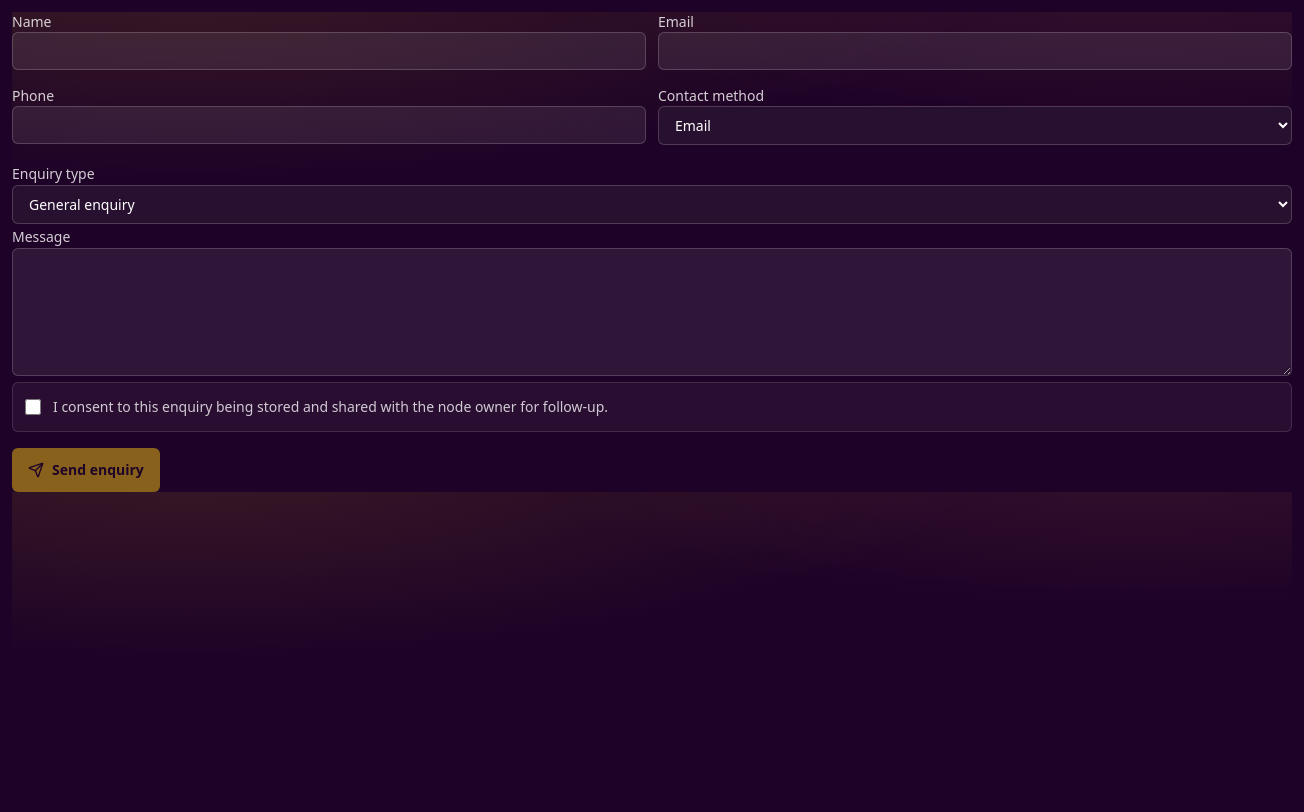
Scenario: Presence Nodes frontend › validates and submits the enquiry form successfully
The width and height of the screenshot is (1304, 812).
Expected: the button "Send enquiry" is disabled, left=12, top=448, right=160, bottom=492
In the field labelled "Name": (329, 51) left=12, top=32, right=646, bottom=70, type "Ari Visitor"
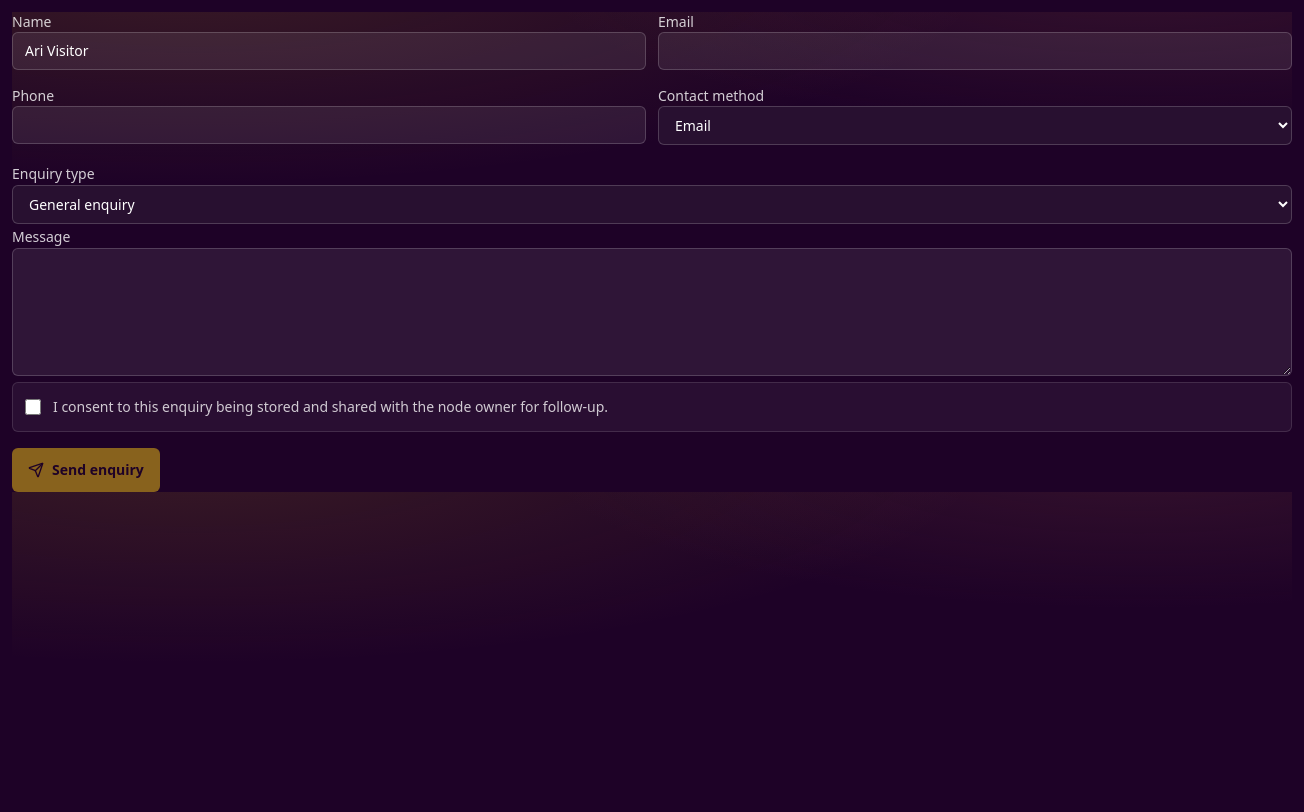
In the field labelled "Email": (975, 51) left=658, top=32, right=1292, bottom=70, type "ari@example.org"
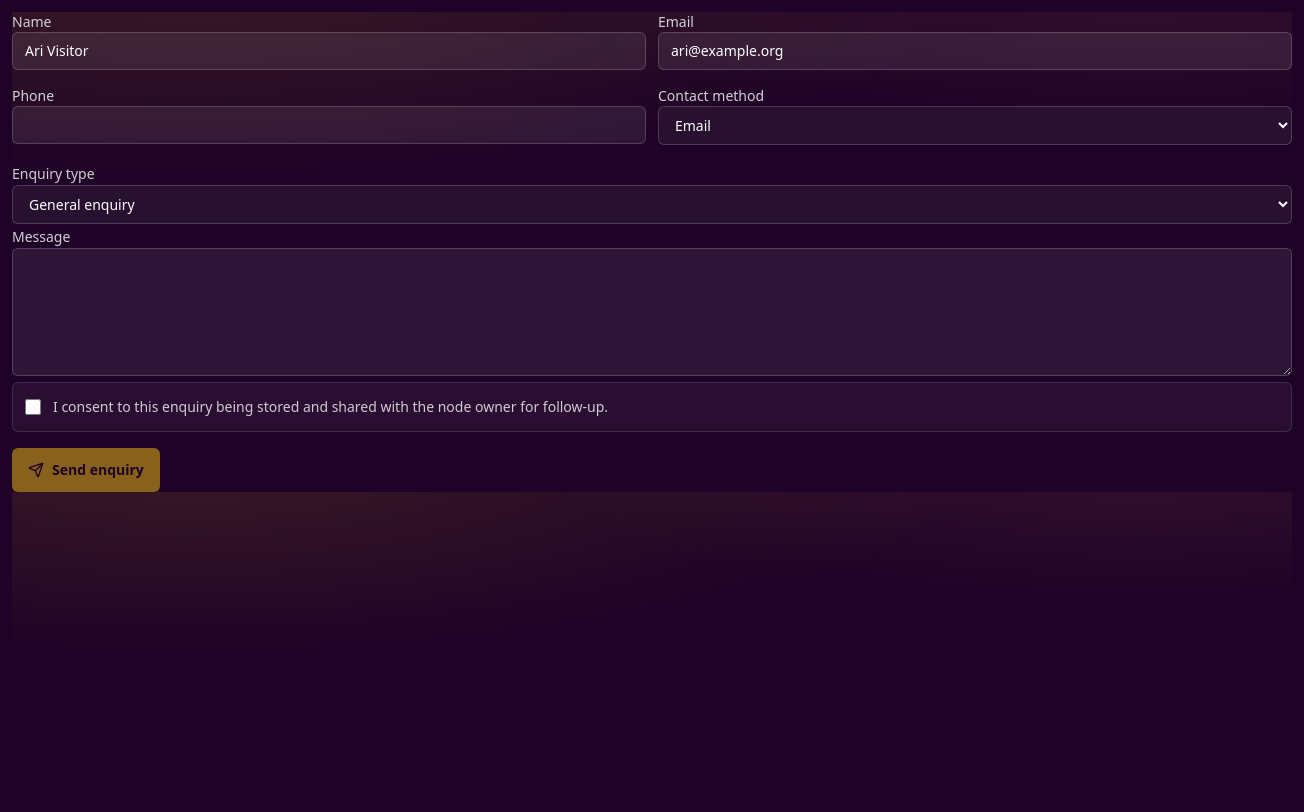
In the text box labelled "Message": (652, 312) left=12, top=248, right=1292, bottom=376, type "I would like to book a session."
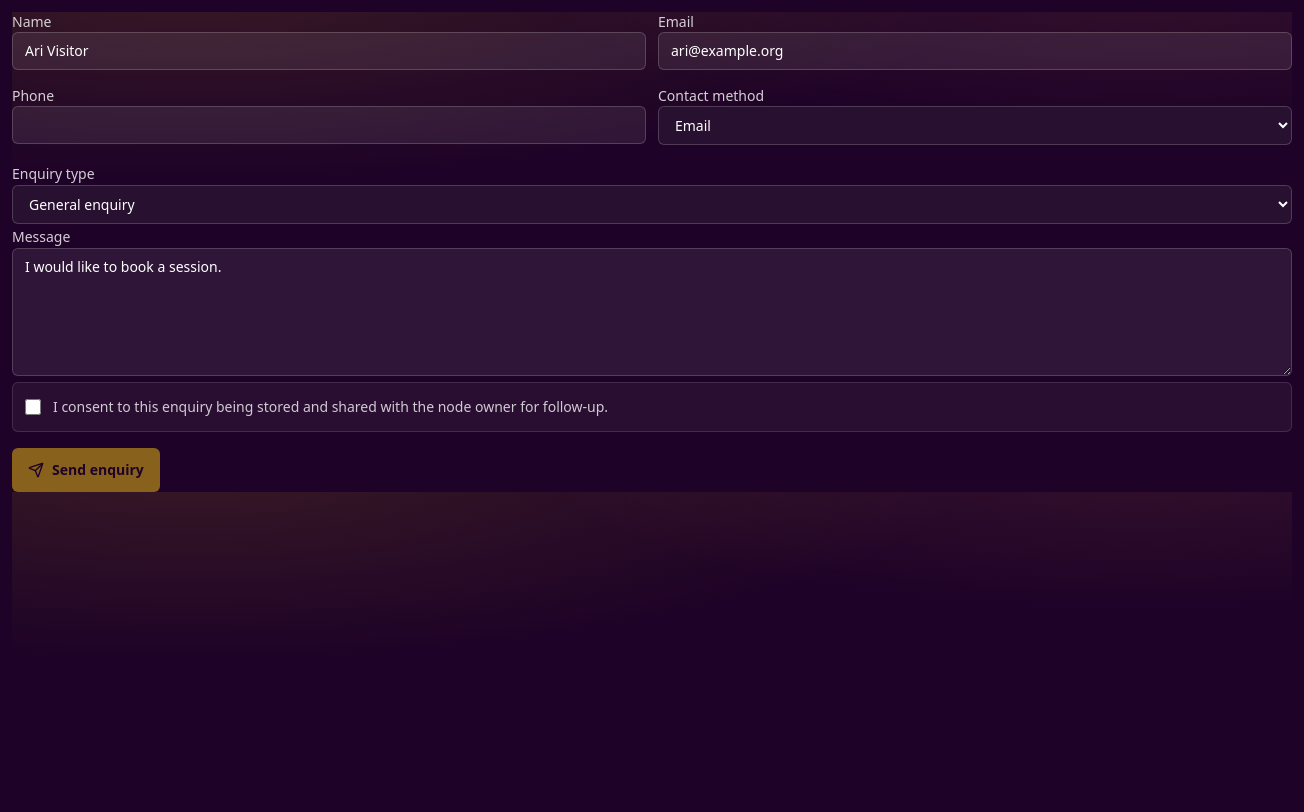
Click the checkbox labelled "I consent": (33, 407) left=25, top=399, right=41, bottom=415
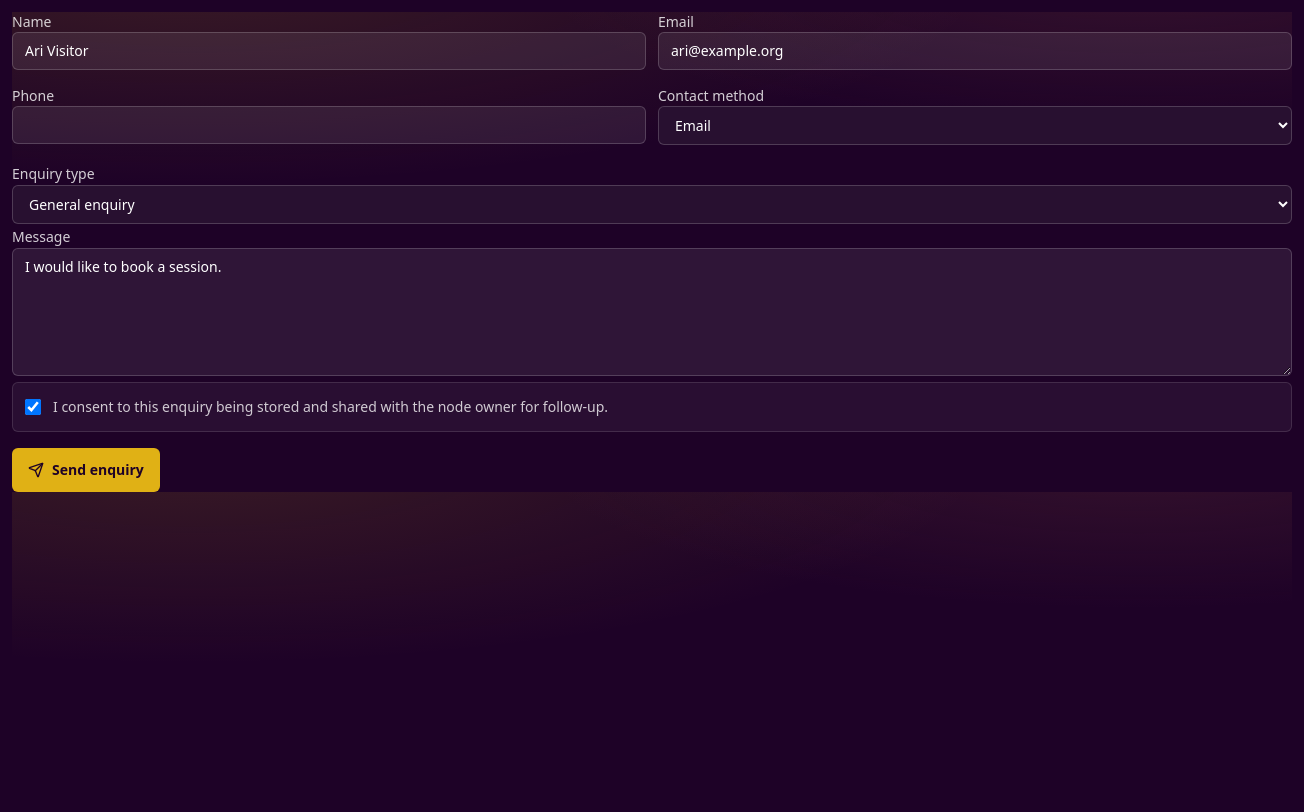
Click the button "Send enquiry": (86, 470) left=12, top=448, right=160, bottom=492
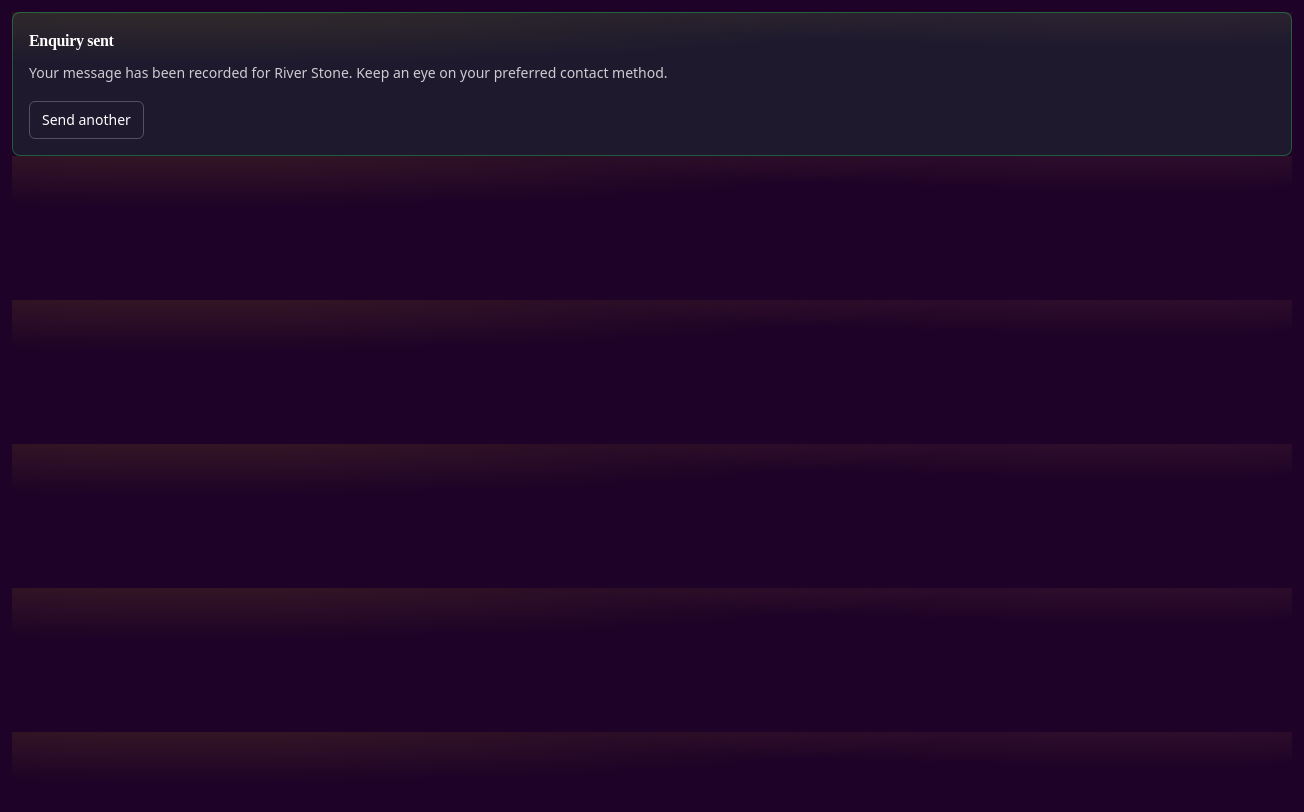
Expected: the heading "Enquiry sent" is shown, left=29, top=32, right=114, bottom=49
